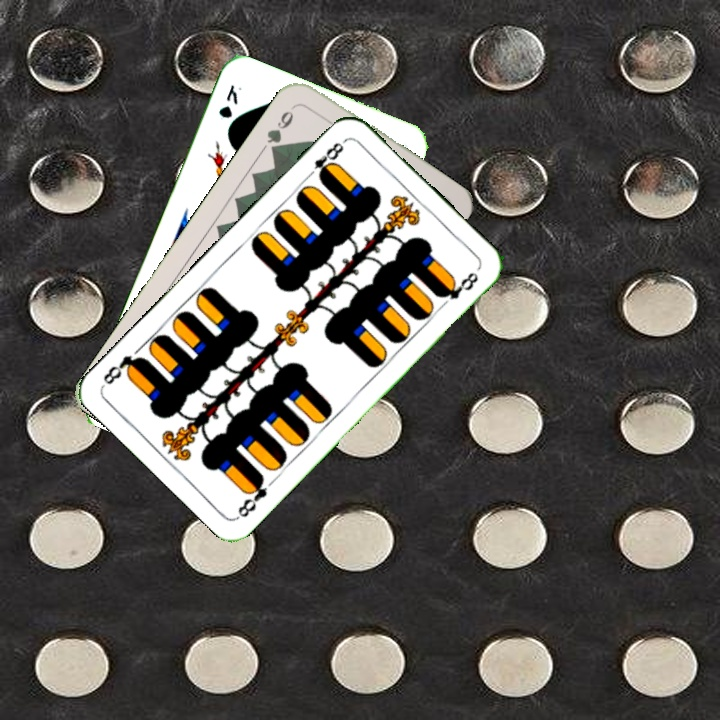E8: (302, 136, 349, 183), (233, 471, 270, 521)
G9: (262, 100, 300, 157)
GK: (214, 81, 241, 121)
